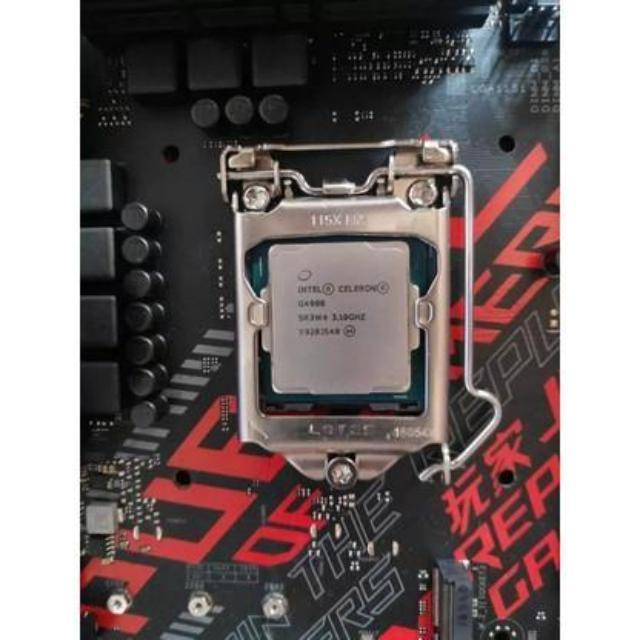CPU: (259, 232, 424, 410)
